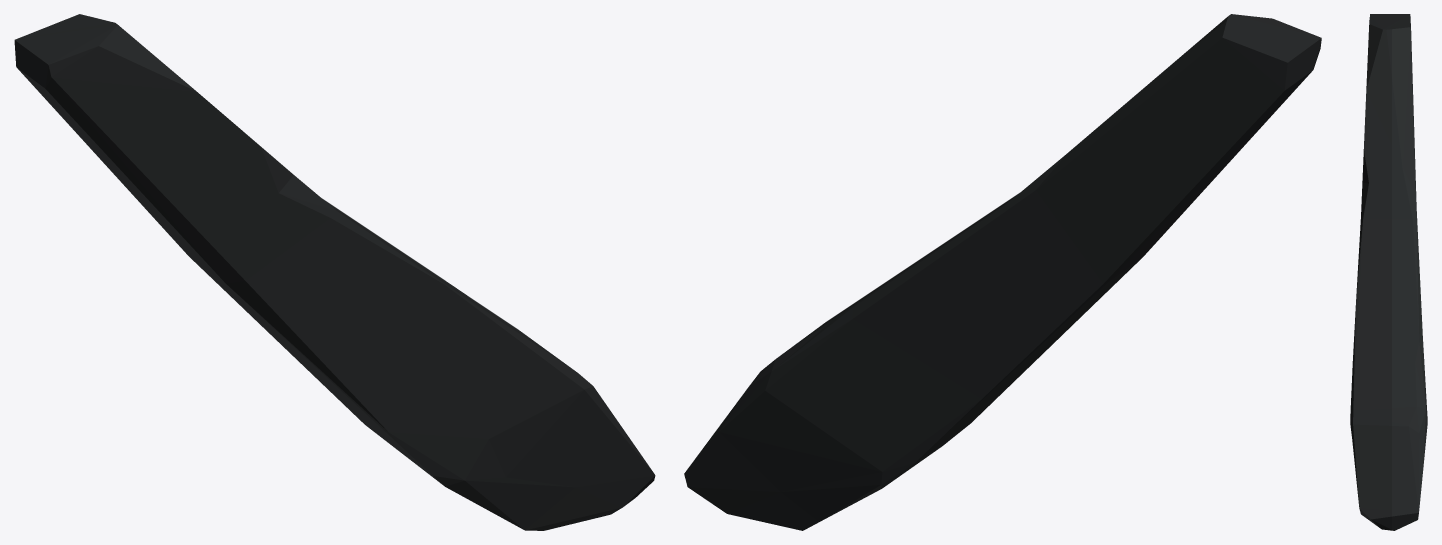
Rendered from Portal_03_Fragment_A.FBX.
The picture shows the model from 3 angles, left to right: view 1: azimuth 30°, elevation 25°; view 2: azimuth 150°, elevation 25°; view 3: azimuth 270°, elevation 25°; orthographic projection. The views are drawn at different scales.
Visible parts, largest first — view 1: Portal_03_Fragment_A; view 2: Portal_03_Fragment_A; view 3: Portal_03_Fragment_A.
Boxes of the visible parts, x1,y1,x2,y2 form: Portal_03_Fragment_A: [14, 14, 655, 530]; Portal_03_Fragment_A: [684, 14, 1321, 530]; Portal_03_Fragment_A: [1350, 14, 1427, 530].
Size of the model in its own units: 2.03 by 1.92 by 0.3825.
